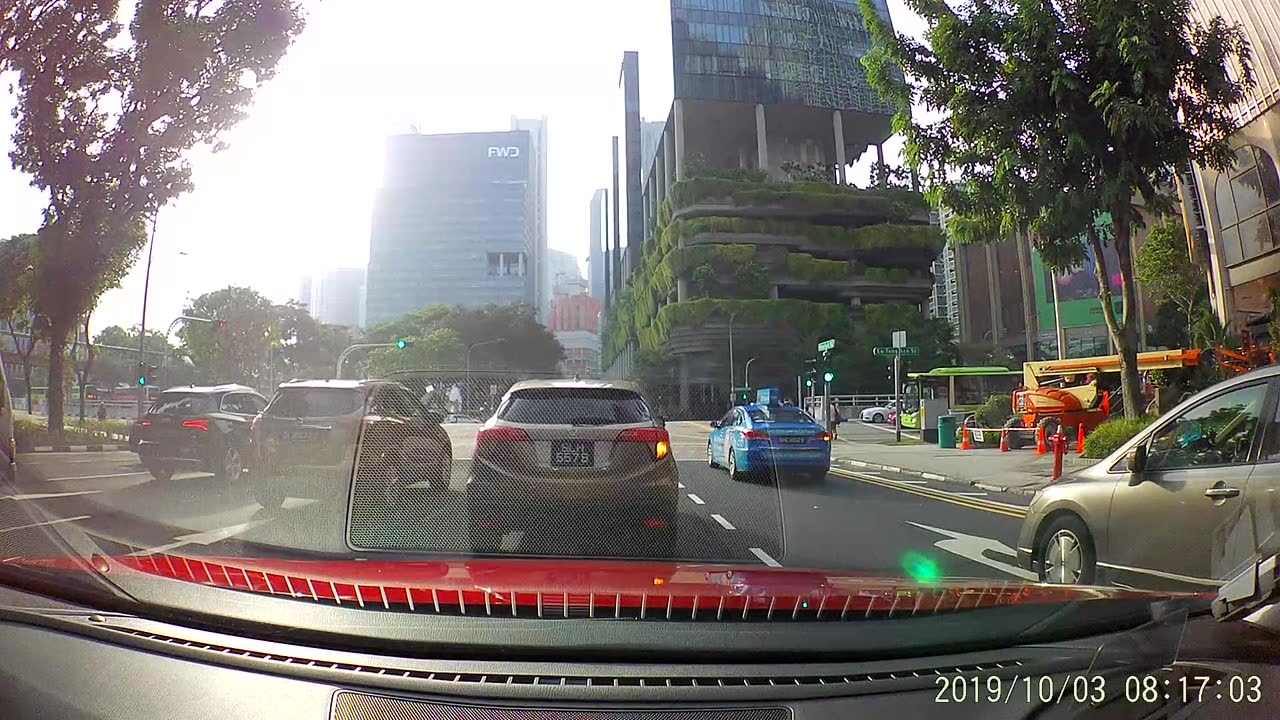bus: (897, 369, 1021, 433)
car: (1016, 361, 1276, 574), (471, 374, 678, 560), (249, 371, 454, 511), (137, 383, 266, 488), (705, 382, 831, 483), (859, 393, 906, 427)
